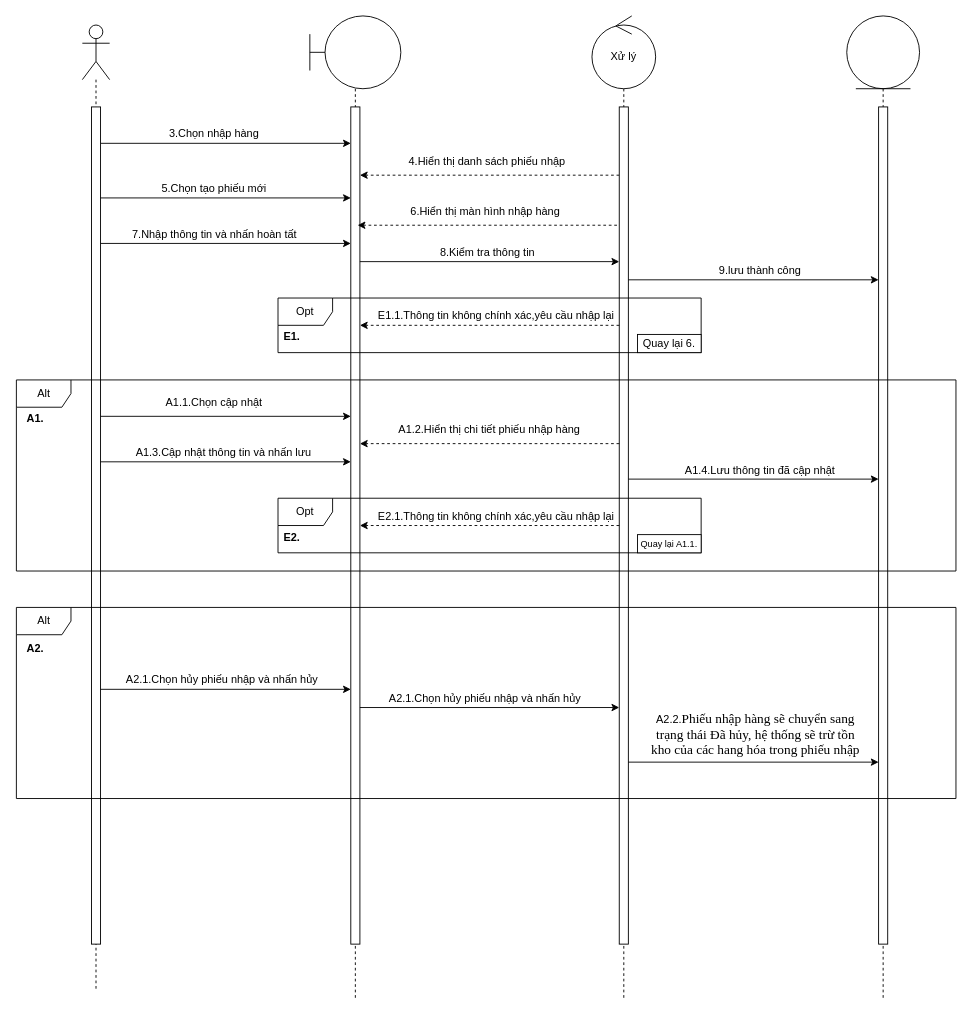
The diagram is 972 pixels wide and 1016 high, and some of its shapes have lost their labels. Here are the shapes that lost their labels. From the top down, the centre of each, then its label:
At [95,52]: "Actor".
At [355,52]: "Nhập hàng".
At [883,52]: "Database".
